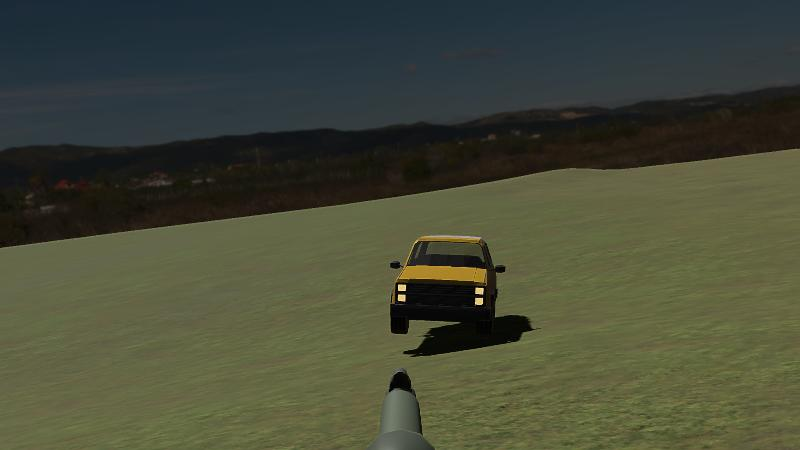car: (387, 232, 507, 340)
